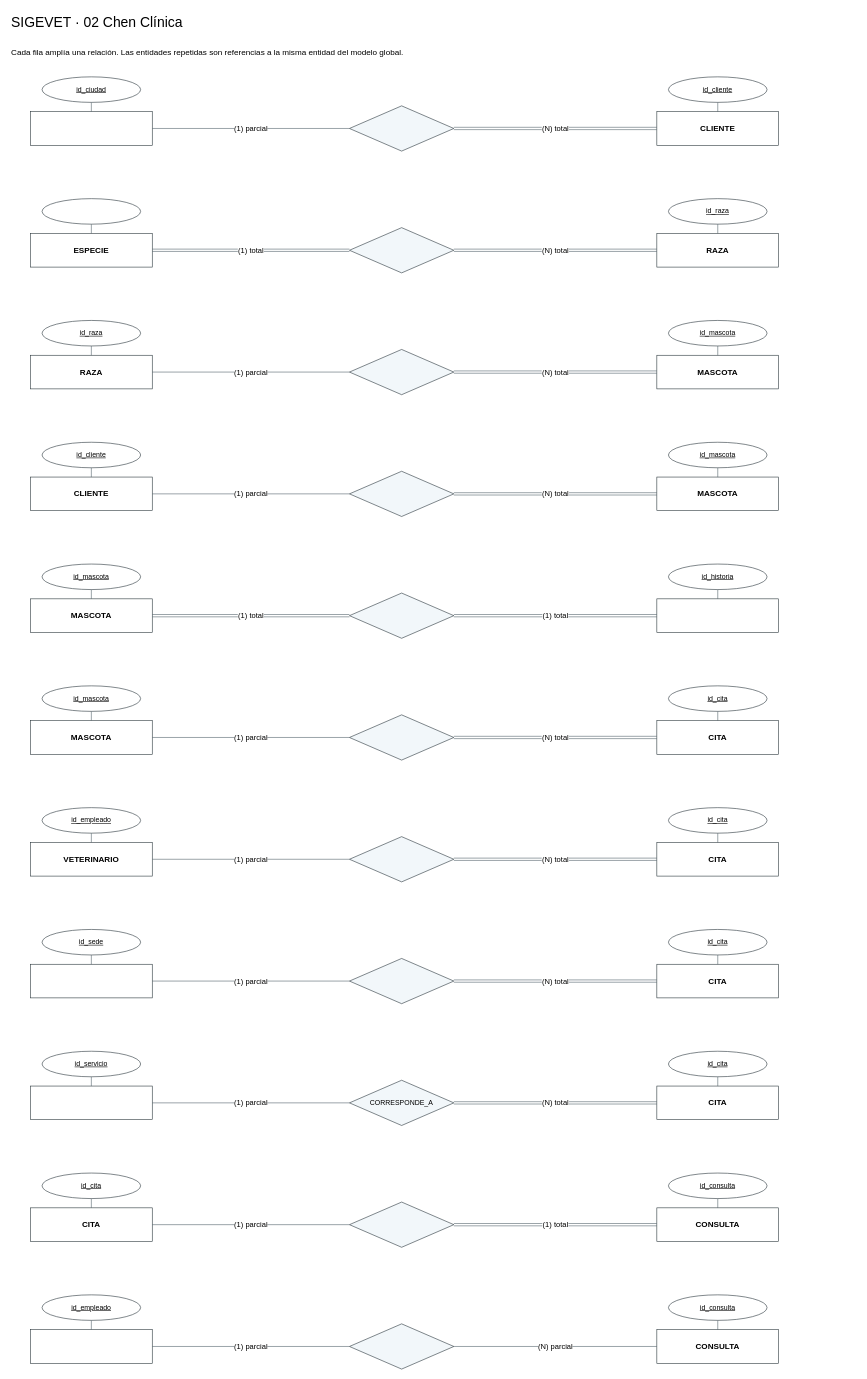
Some shapes in this 867 by 1379 pixel diagram are drawn without their labels. Each missing label, with the centre of its shape:
"ASISTE" belongs at (x=401, y=1346).
"ATIENDE" belongs at (x=401, y=859).
"AUXILIAR" belongs at (x=91, y=1346).
"CIUDAD" belongs at (x=91, y=128).
"CLASIFICA" belongs at (x=401, y=250).
"ES_DE_RAZA" belongs at (x=401, y=372).
"GENERA" belongs at (x=401, y=1224).
"HISTORIA_CLINICA" belongs at (x=717, y=615).
"id_especie" belongs at (x=91, y=211).
"PROPIETARIO_DE" belongs at (x=401, y=493).
"RESIDE_EN" belongs at (x=401, y=128).
"SE_PROGRAMA_EN" belongs at (x=401, y=981).
"SEDE" belongs at (x=91, y=981).
"SERVICIO" belongs at (x=91, y=1102).
"SOLICITA" belongs at (x=401, y=737).
"TIENE" belongs at (x=401, y=615).
